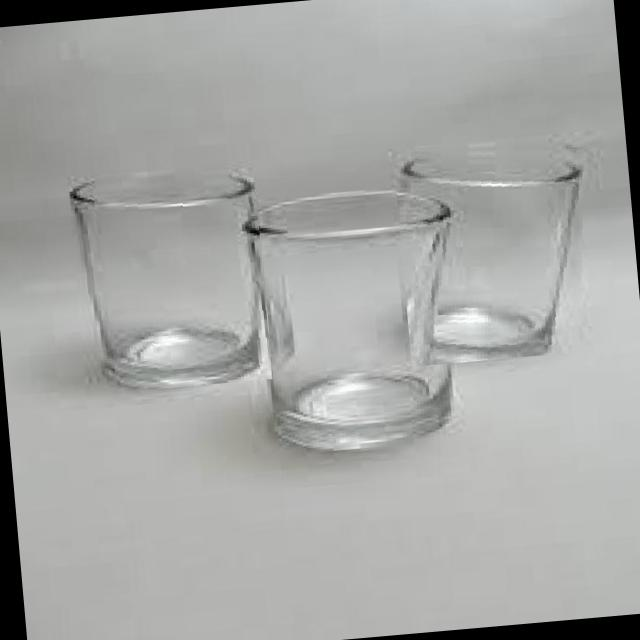Glass: (234, 178, 484, 460), (392, 130, 602, 367), (65, 157, 272, 395)
